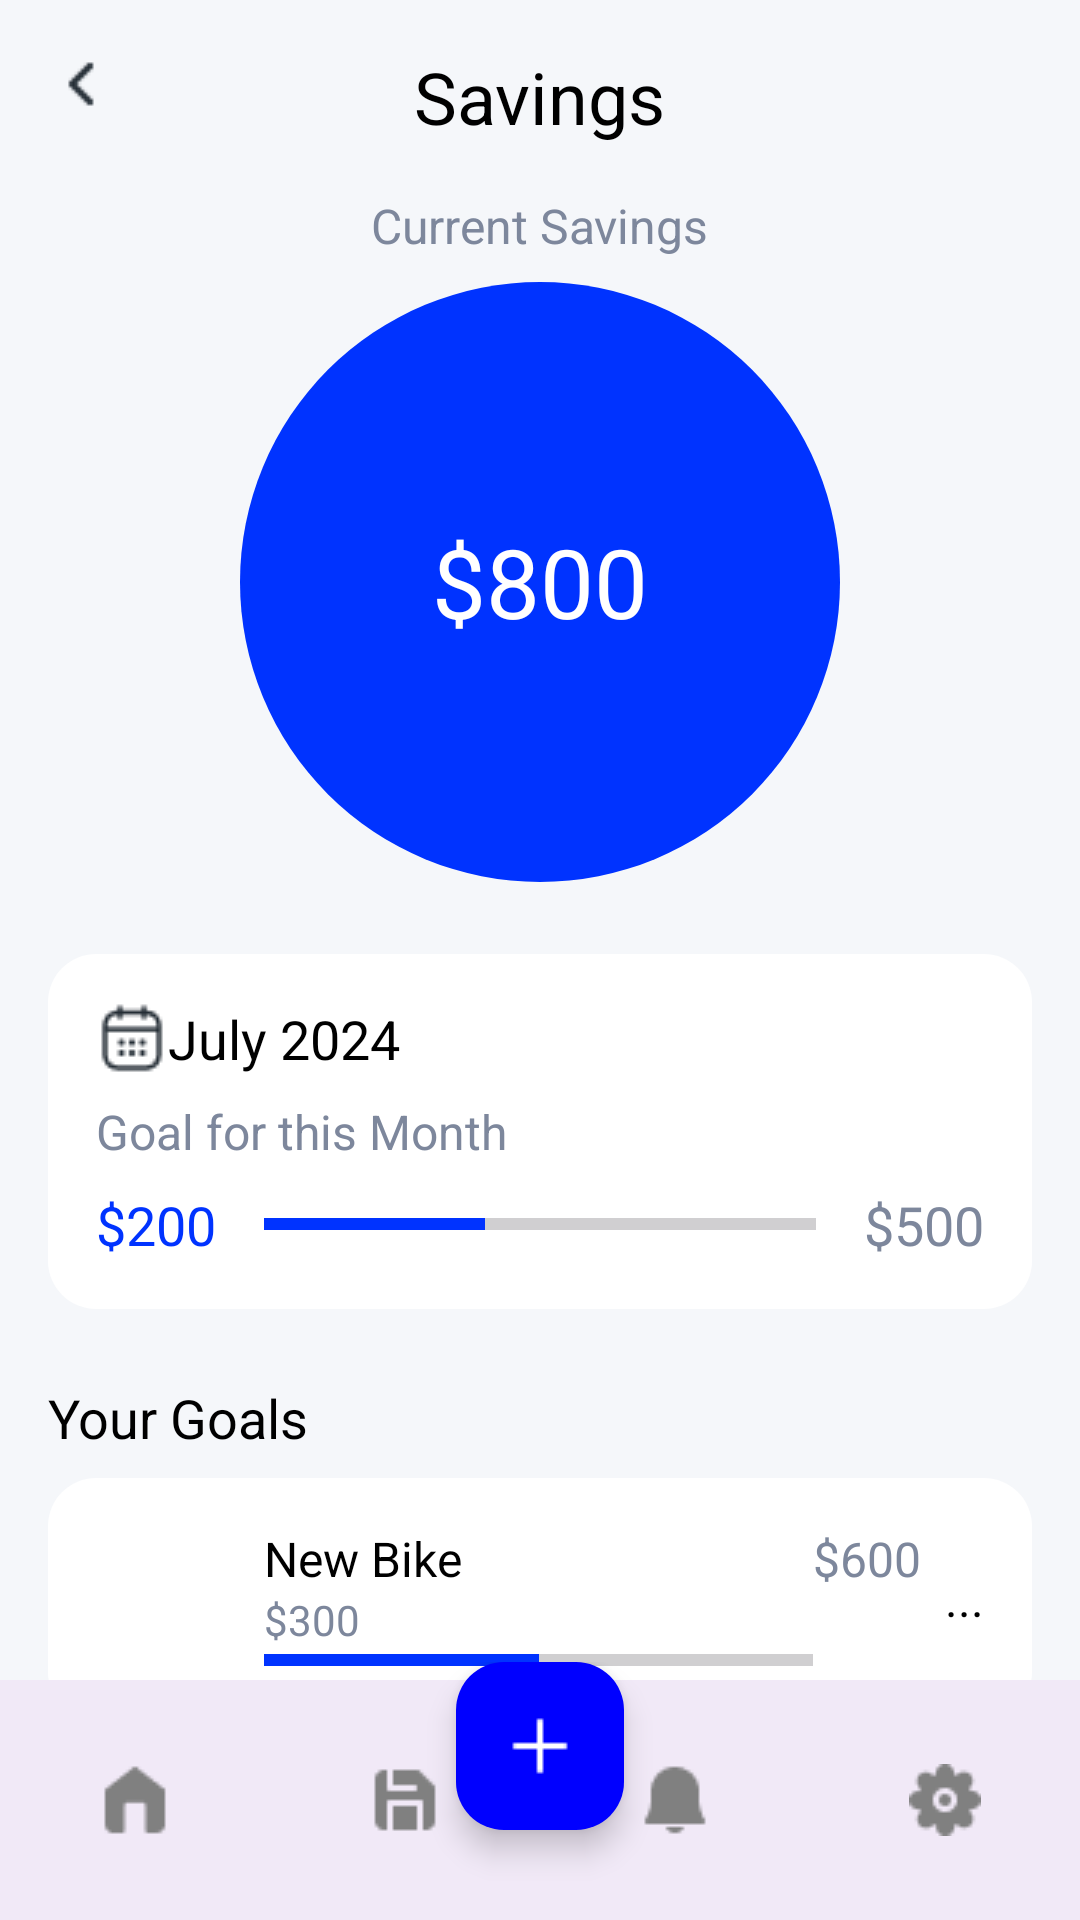

Screen size 1080w x 1920h. Icon name, then its center in pixels as (x=x, y=y):
Back: (x=81, y=84)
plus: (x=540, y=1746)
